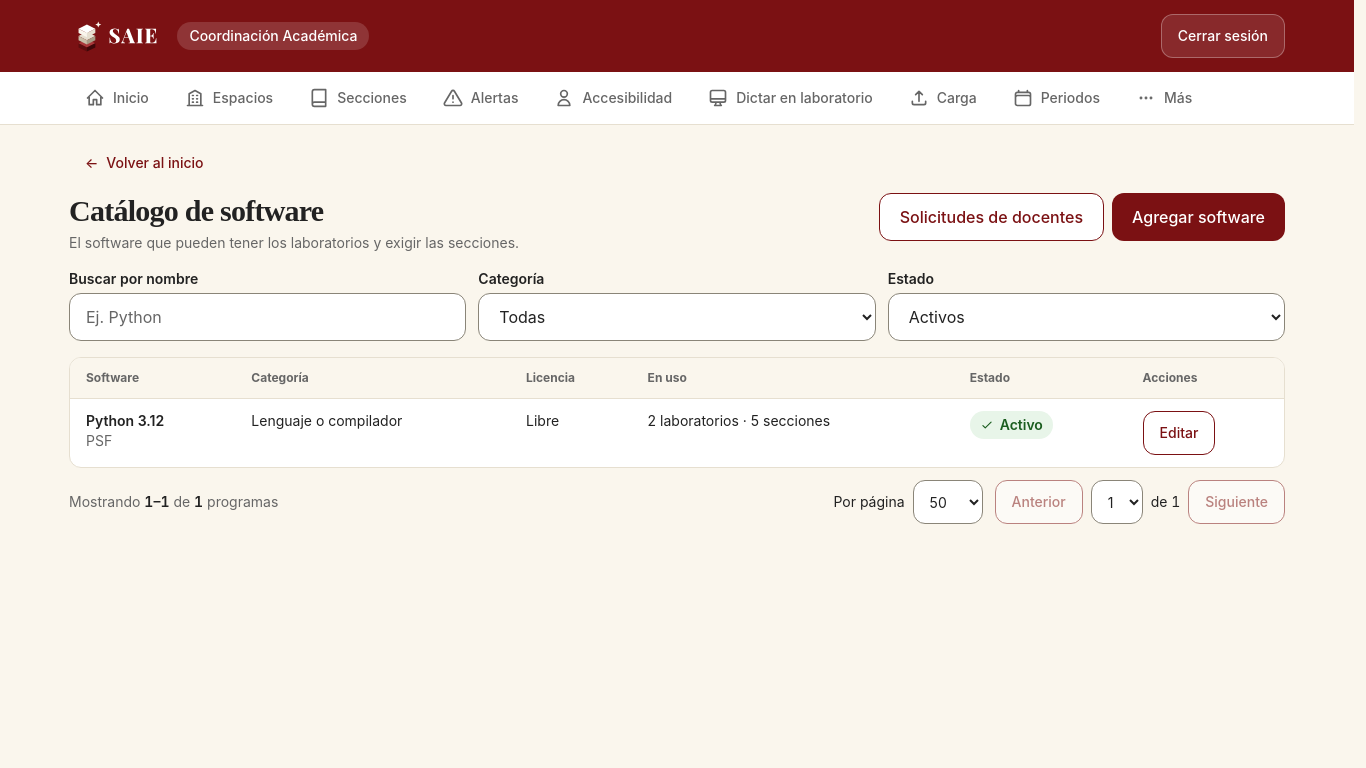
Catálogo de software (Issue 4.30) › edita los datos y envía el fabricante vacío como null
Click the button named "Editar Python 3.12": (1179, 433) [1143,411,1215,455]
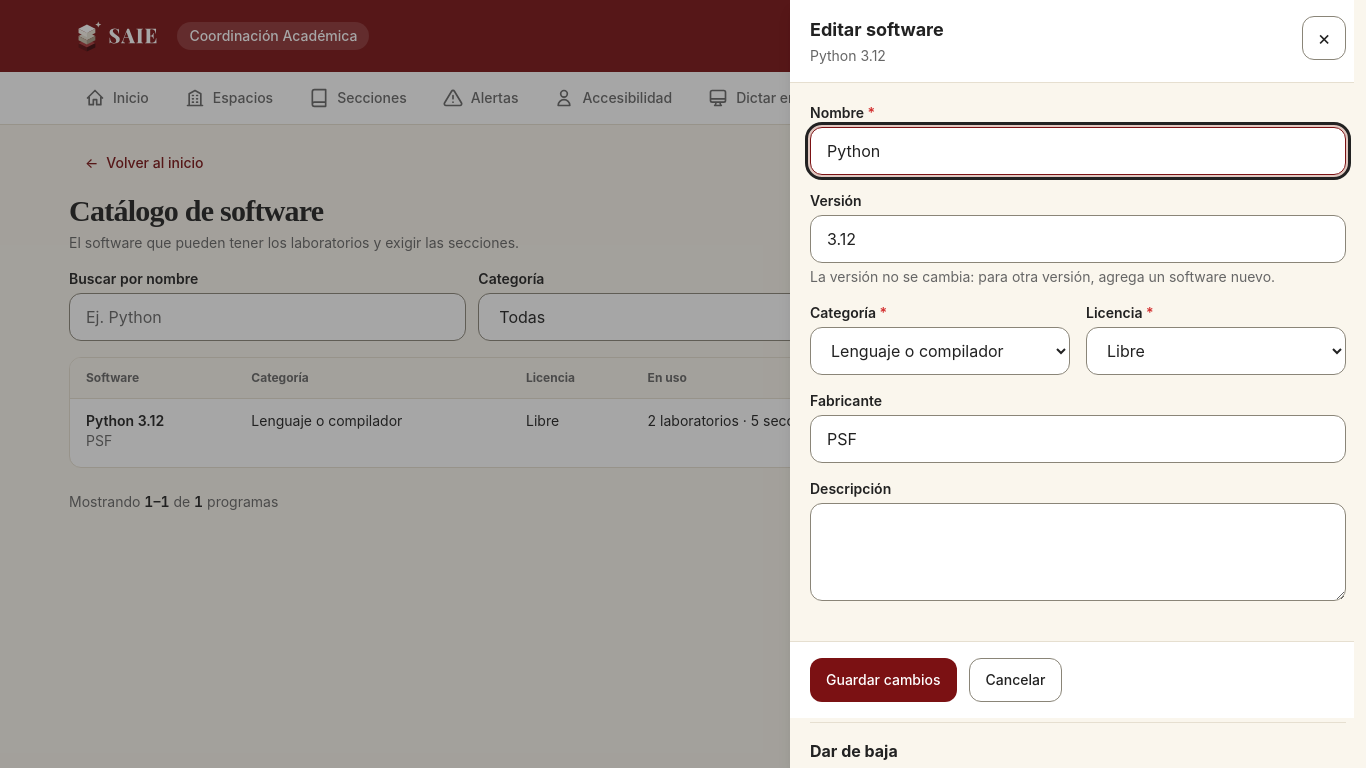
Clear the field labelled "Fabricante": (1078, 439) [810,415,1346,463]
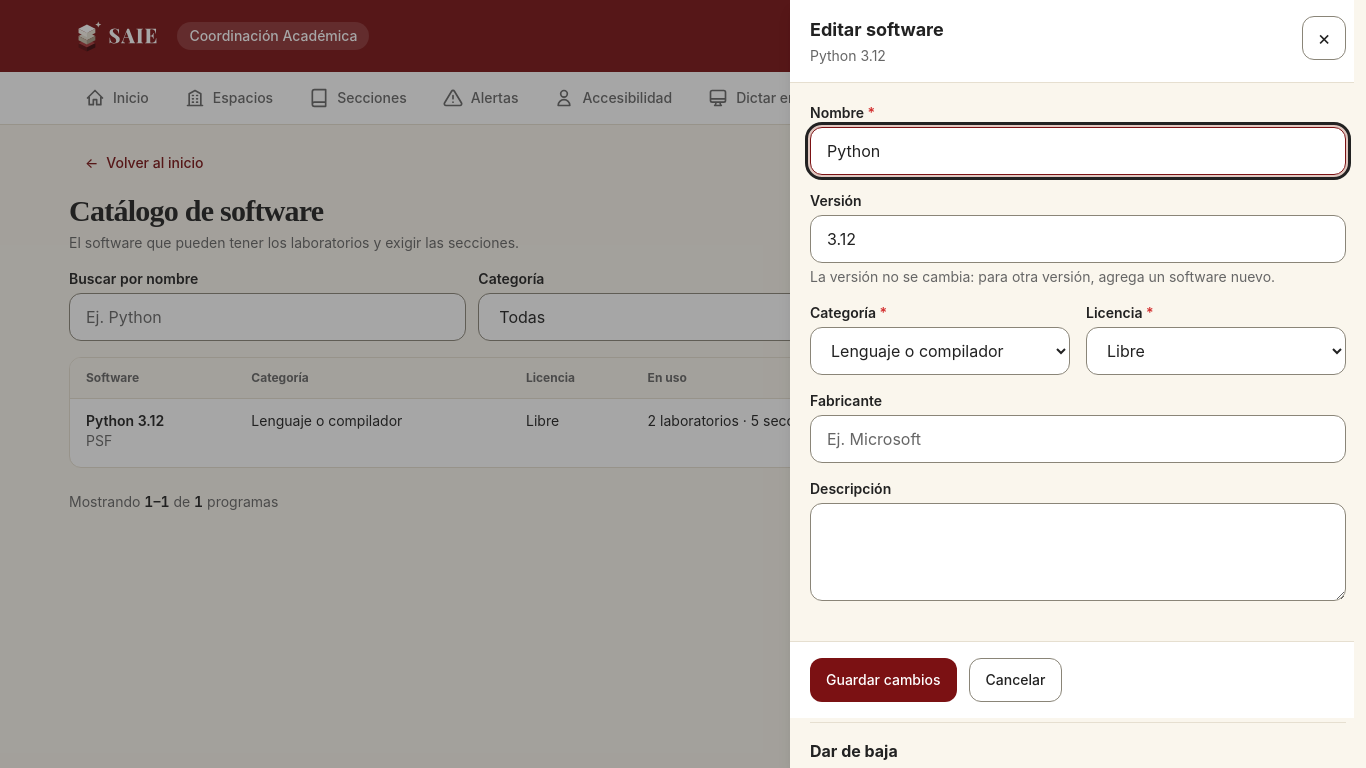
In the text box labelled "Descripción": (1078, 552) [810,503,1346,601], type "Intérprete"
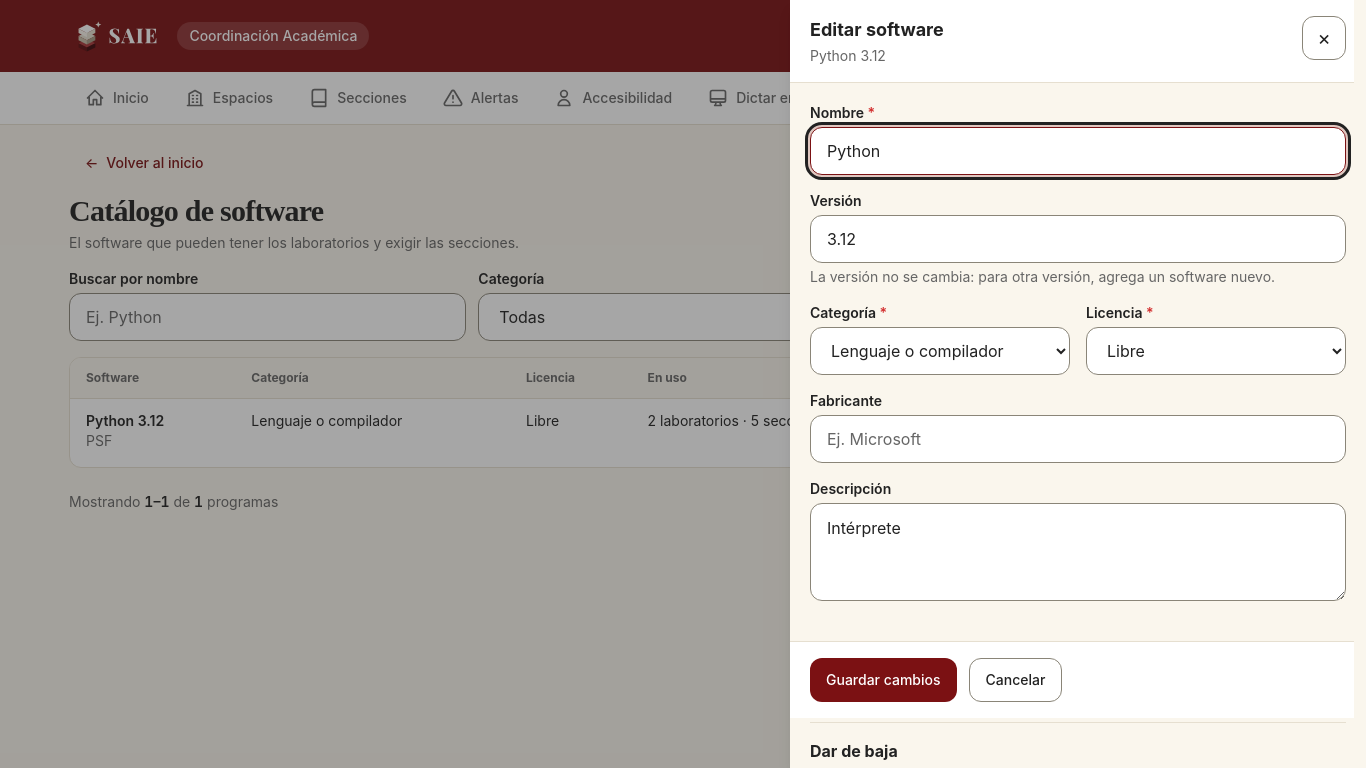
Select "Educativa" in the dropdown labelled "Licencia *": (1216, 351) [1086,327,1346,375]
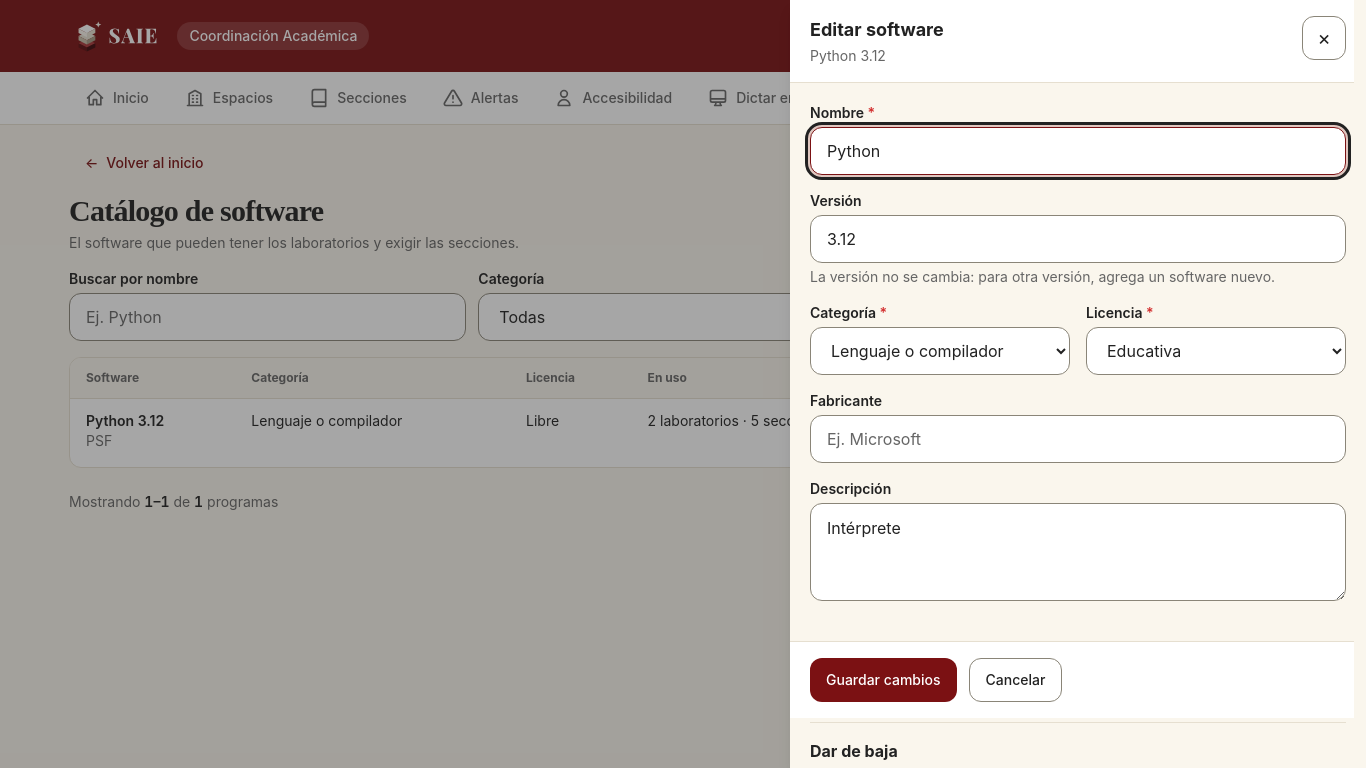
Click the button "Guardar cambios": (883, 680) [810,658,956,702]
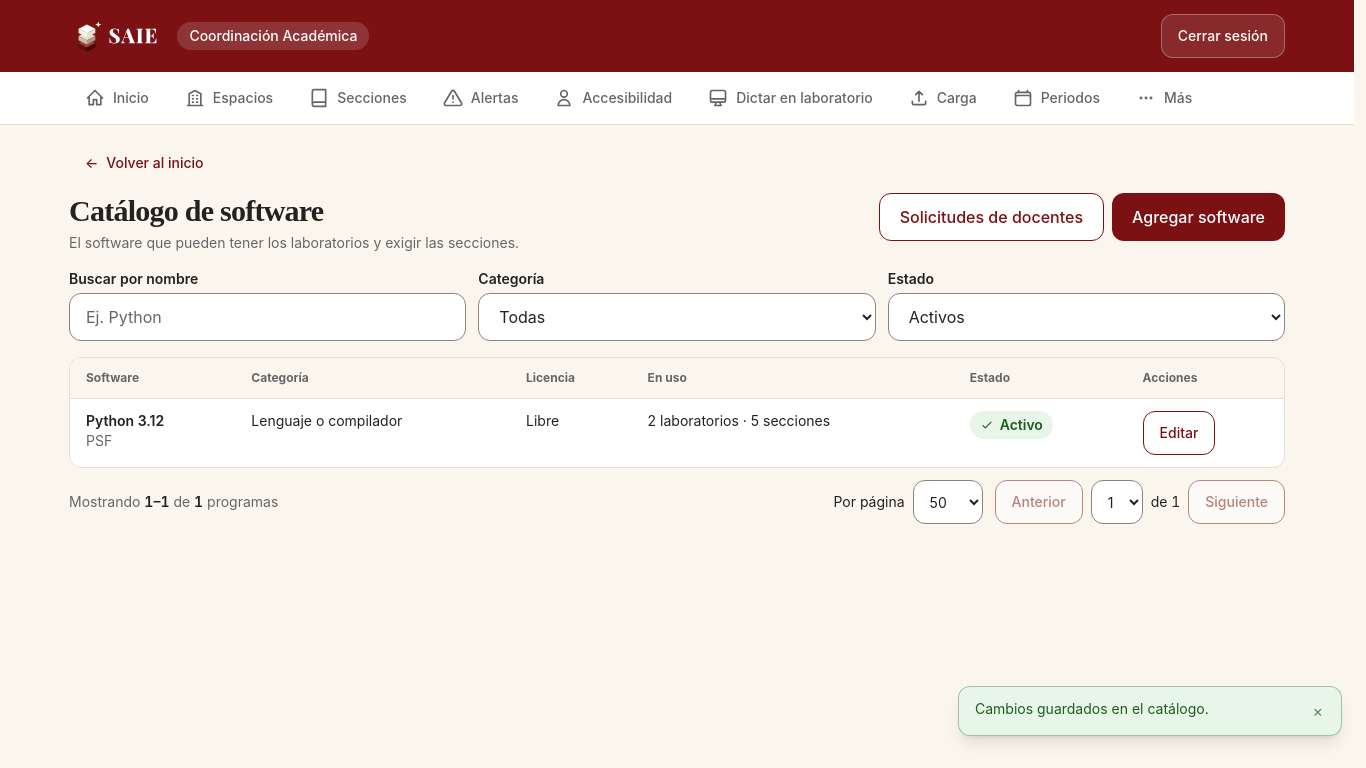
Now the dialog is gone
